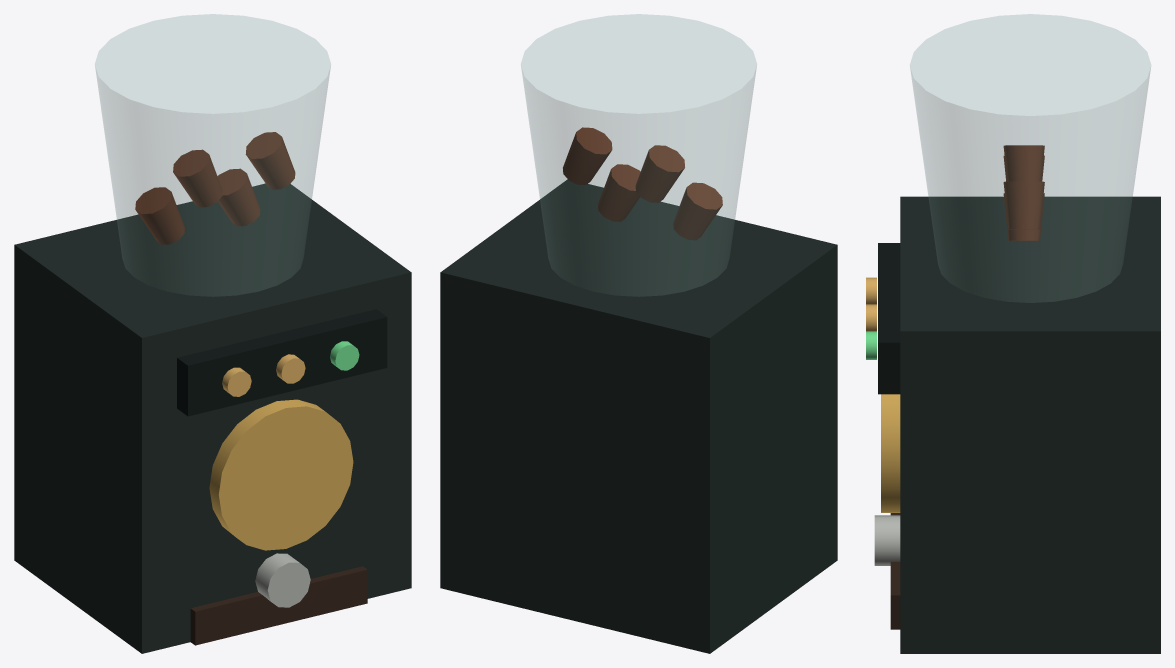
File: grinder.glb
The picture shows the model from 3 angles, left to right: view 1: azimuth 30°, elevation 25°; view 2: azimuth 150°, elevation 25°; view 3: azimuth 270°, elevation 25°; orthographic projection. The views are drawn at different scales.
Parts seen in each view (by area): view 1: PowderCoatedBody, GlassHopper, GrindDial, DigitalPanel, CoffeeBean (×4), GroundTray, GroundChute, PanelButton (×3); view 2: PowderCoatedBody, GlassHopper, CoffeeBean (×4); view 3: PowderCoatedBody, GlassHopper, CoffeeBean (×3), DigitalPanel, GrindDial, GroundChute, GroundTray.
Part boxes in pixels (x1,y1,x2,y2): PowderCoatedBody: [14, 183, 411, 653]; GlassHopper: [95, 14, 330, 296]; GrindDial: [209, 399, 353, 550]; DigitalPanel: [177, 309, 387, 416]; CoffeeBean (×4): [135, 132, 295, 244]; GroundTray: [190, 566, 367, 645]; GroundChute: [255, 553, 310, 607]; PanelButton (×3): [222, 341, 359, 396]; PowderCoatedBody: [440, 179, 837, 653]; GlassHopper: [521, 14, 756, 296]; CoffeeBean (×4): [563, 127, 722, 240]; PowderCoatedBody: [900, 196, 1160, 653]; GlassHopper: [910, 14, 1150, 302]; CoffeeBean (×3): [1003, 145, 1044, 240]; DigitalPanel: [878, 243, 900, 394]; GrindDial: [881, 394, 900, 512]; GroundChute: [874, 515, 900, 565]; GroundTray: [890, 513, 900, 629].
Bounding box in the file's own units: 1 × 1.81 × 0.9275.
